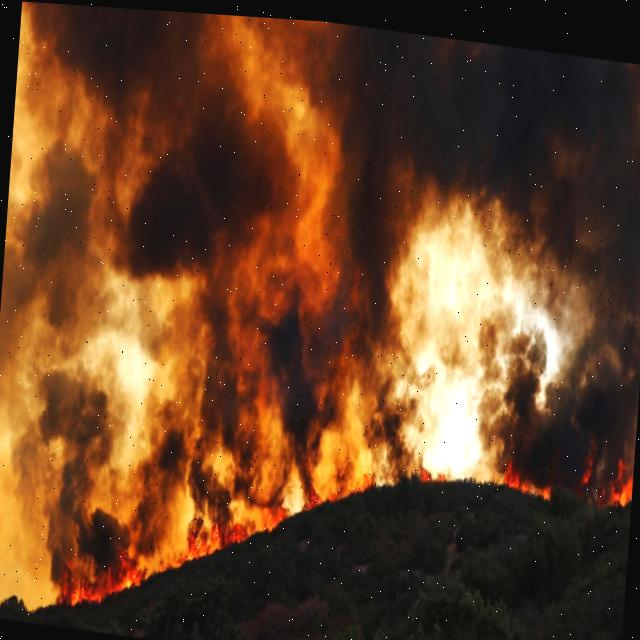fire: (57, 503, 289, 607), (503, 458, 551, 490), (599, 460, 632, 502)
smoke: (0, 1, 640, 607)
